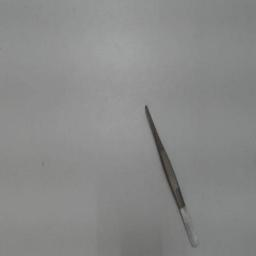Gillies Toothed Dissector: (138, 96, 204, 252)
